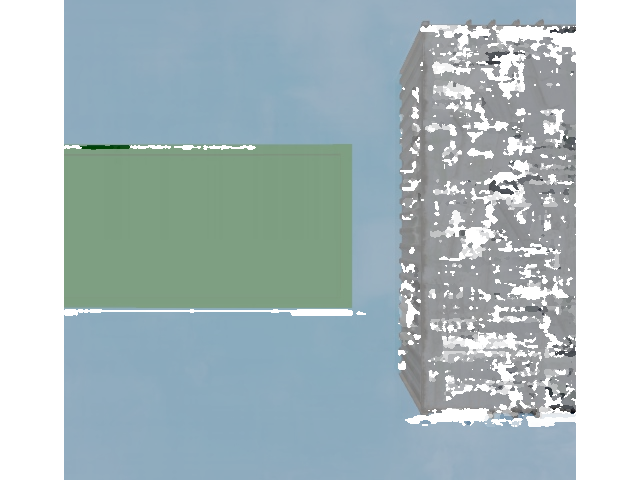container1: (398, 8, 597, 422)
container2: (12, 141, 356, 315)
